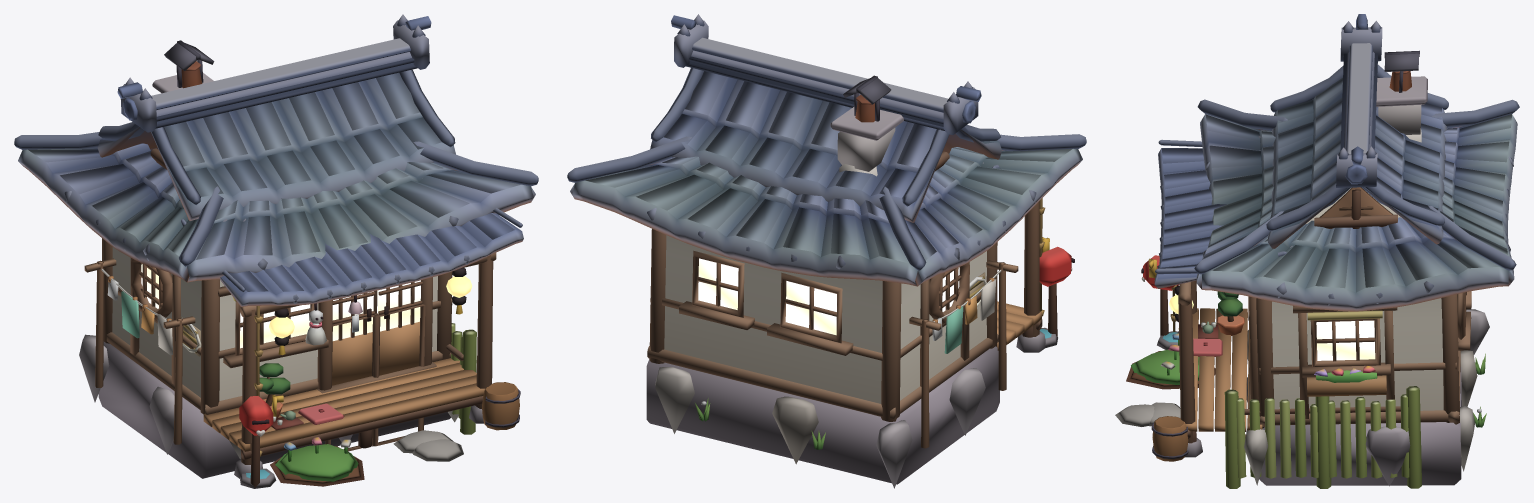
The model's file is home-2-v1.glb.
3 renders of one model, left to right at view 1: azimuth 30°, elevation 25°; view 2: azimuth 150°, elevation 25°; view 3: azimuth 270°, elevation 25°, orthographic. The views are drawn at different scales.
Visible parts, largest first — view 1: home, window_glow; view 2: home, window_glow; view 3: home, window_glow.
Part boxes in pixels (x1,y1,x2,y2): home: (14, 14, 538, 488); window_glow: (141, 264, 472, 348); home: (567, 14, 1086, 488); window_glow: (698, 258, 959, 335); home: (1115, 14, 1519, 488); window_glow: (1169, 294, 1375, 360).
Bounding box in the file's own units: 3.47 × 3.4 × 3.57.
